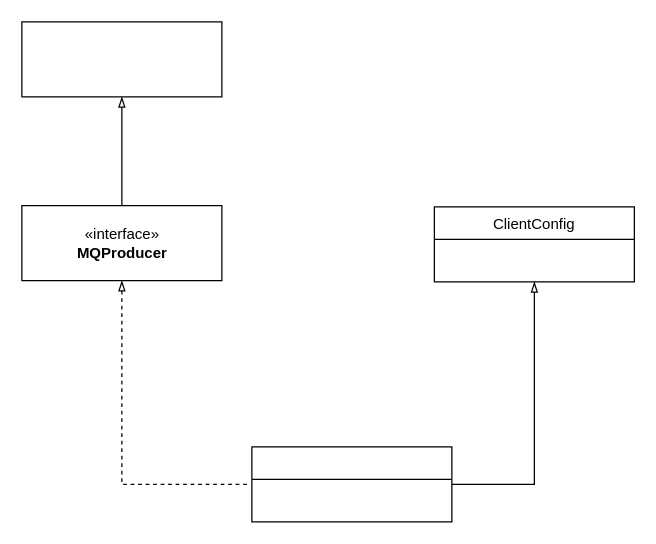
Image size: 656x544. Some labels were removed from this diagram. Each missing label, with the centre of its shape:
DefaultMQProducer: (x=351, y=484)
«interface» MQAdmin: (x=121, y=59)
